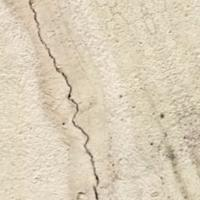crack: (24, 0, 113, 199)
